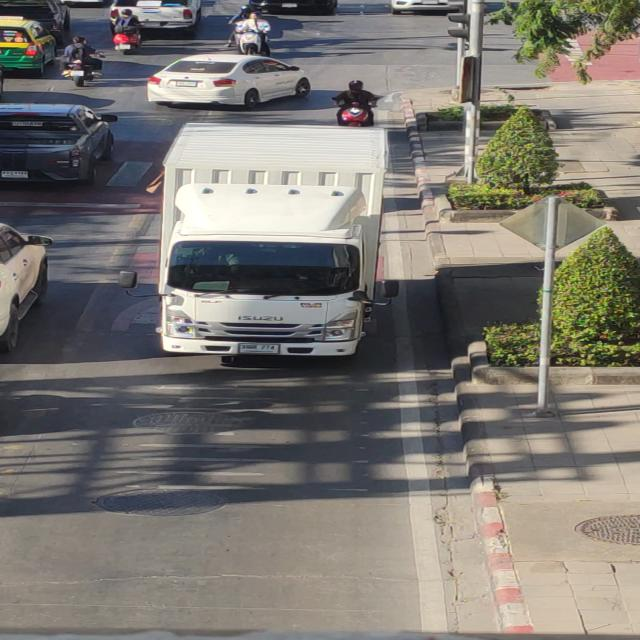car: (149, 116, 390, 360)
